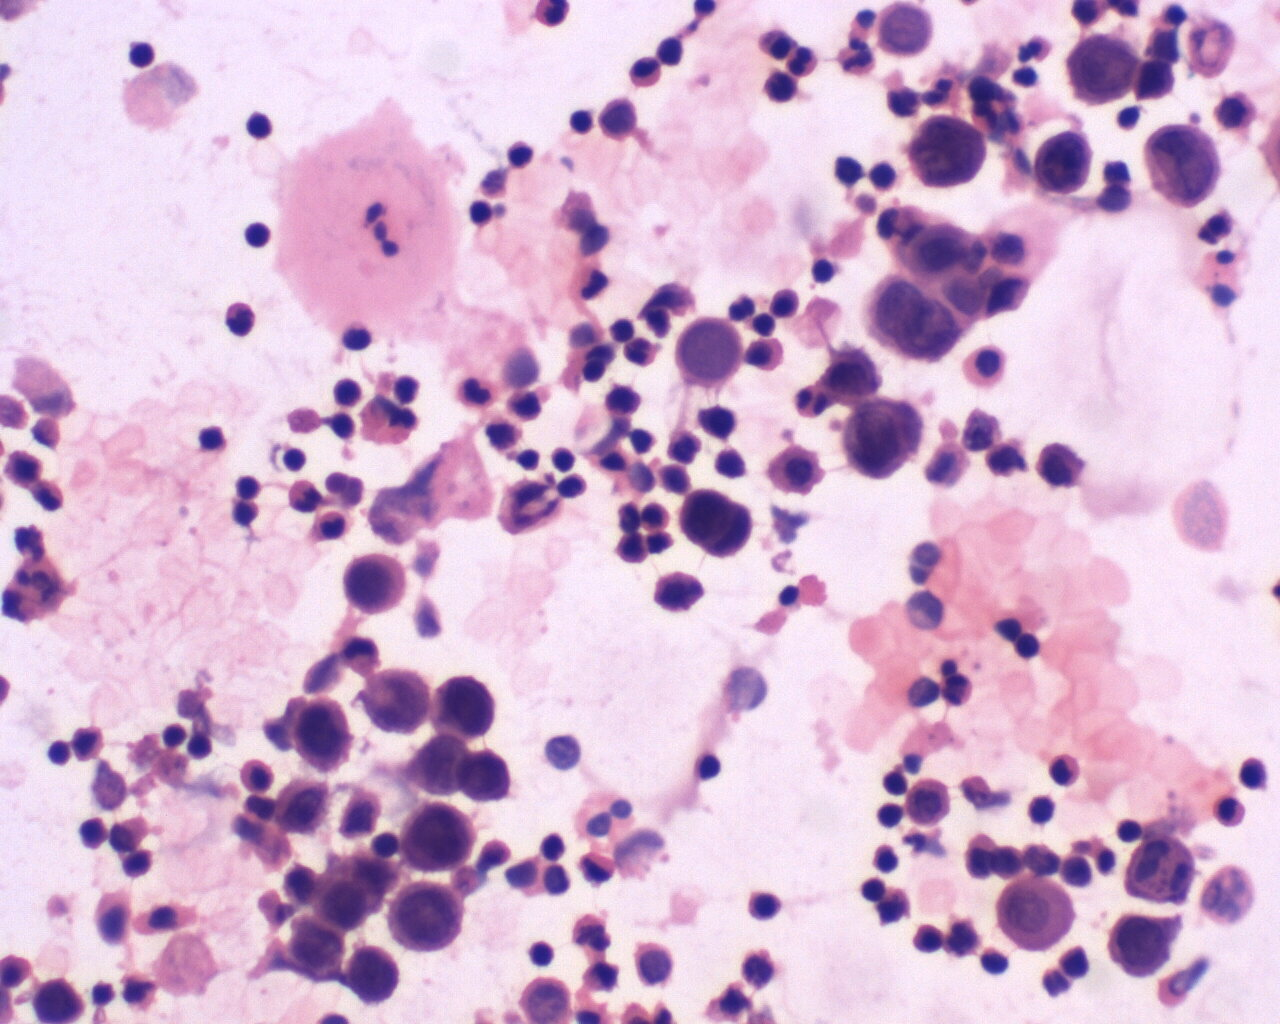ab: (866, 271, 961, 362), (839, 397, 929, 485), (993, 876, 1084, 953), (1144, 121, 1223, 209), (386, 877, 470, 957), (679, 485, 757, 564), (910, 116, 988, 193), (401, 799, 478, 877), (1065, 30, 1137, 108), (341, 549, 414, 621), (289, 698, 354, 773), (1108, 906, 1177, 976), (675, 316, 741, 389), (435, 675, 499, 741), (270, 776, 335, 841), (1034, 131, 1095, 194), (347, 942, 406, 1006), (456, 745, 514, 805)
lymph: (523, 936, 566, 972), (123, 33, 163, 71), (239, 215, 280, 252), (461, 196, 502, 233), (853, 870, 890, 909), (562, 106, 598, 145), (1111, 813, 1148, 850), (241, 104, 278, 141), (686, 750, 723, 786), (1010, 626, 1044, 665)
meso: (760, 440, 825, 502), (964, 342, 1013, 391)
neutro: (222, 298, 267, 343), (453, 372, 502, 412), (836, 43, 878, 80), (630, 55, 664, 92)
